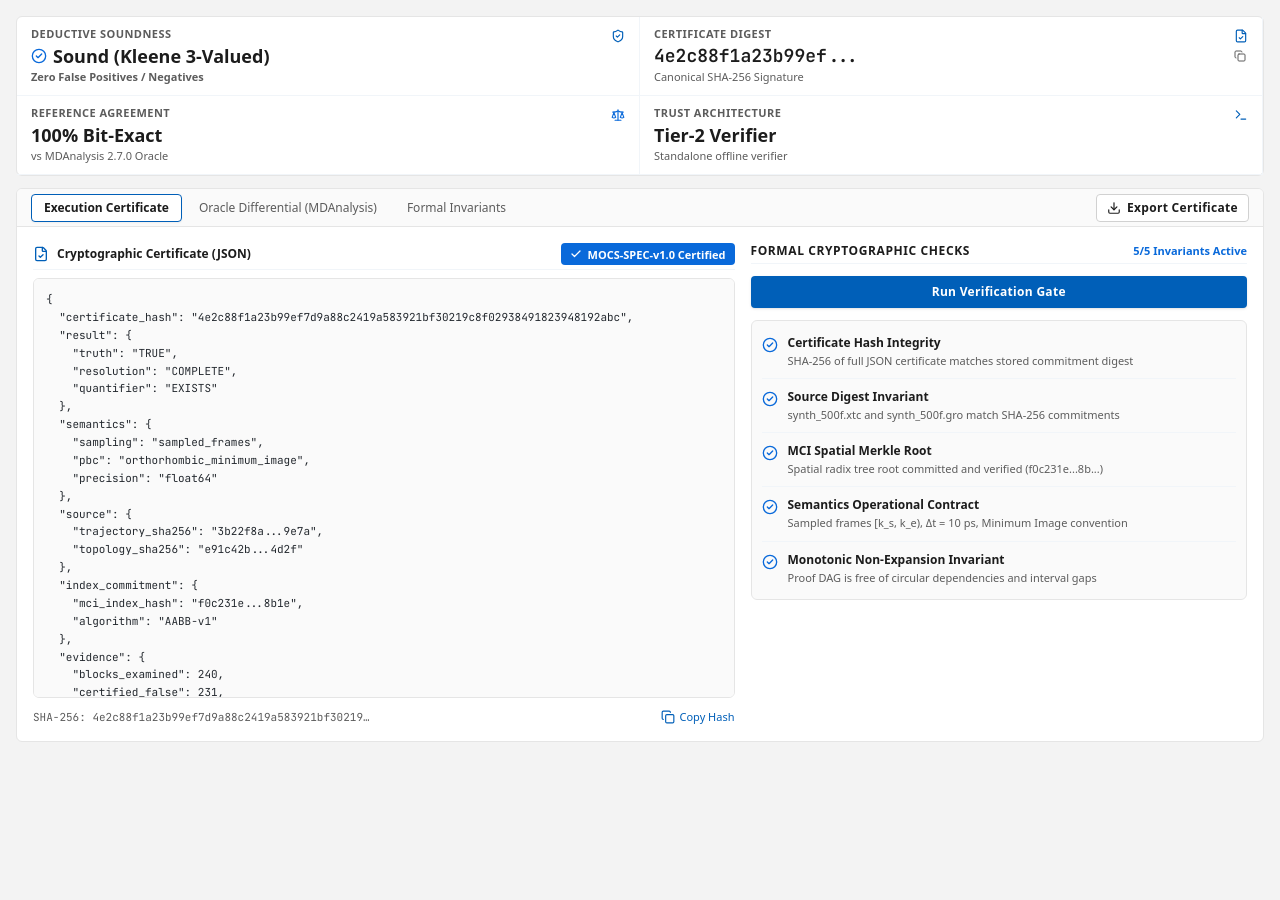
Test case: PASS 28 UI Reconstruction & Information Architecture Verification Suite › 2. FormalAuditView Reconstruction & Metric Strip Invariants › renders flattened certificate inspection tabs cleanly
This screenshot has width=1280, height=900.
Expected: the tab "Execution Certificate" is shown, [31,194,182,222]
Expected: the tab "Oracle Differential (MDAnalysis)" is shown, [186,194,390,222]
# Switch to invariants tab
Click the tab "Formal Invariants": (456,208) [394,194,519,222]
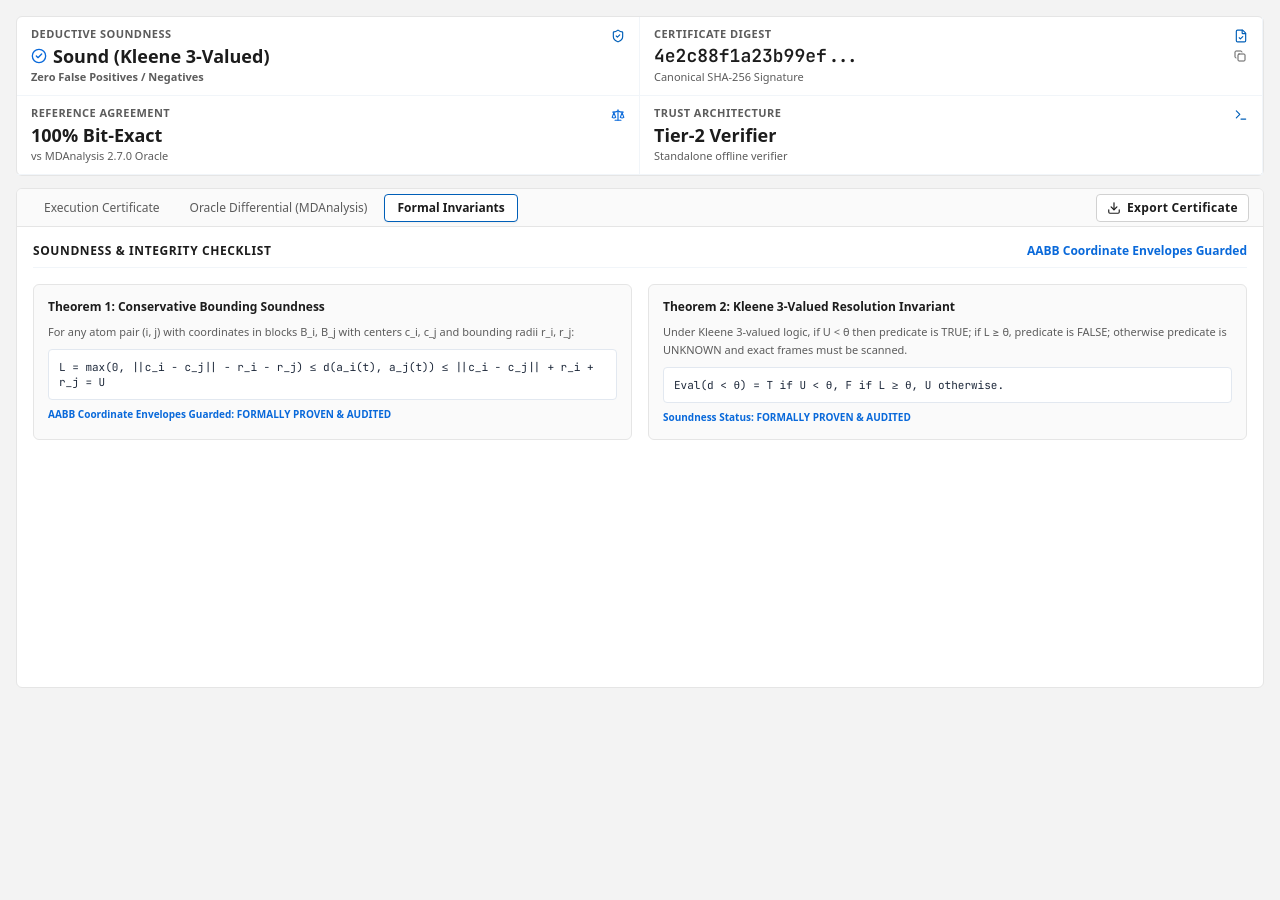
Expected: the text "Theorem 1: Conservative Bounding Soundness" is shown, [48,298,325,315]
